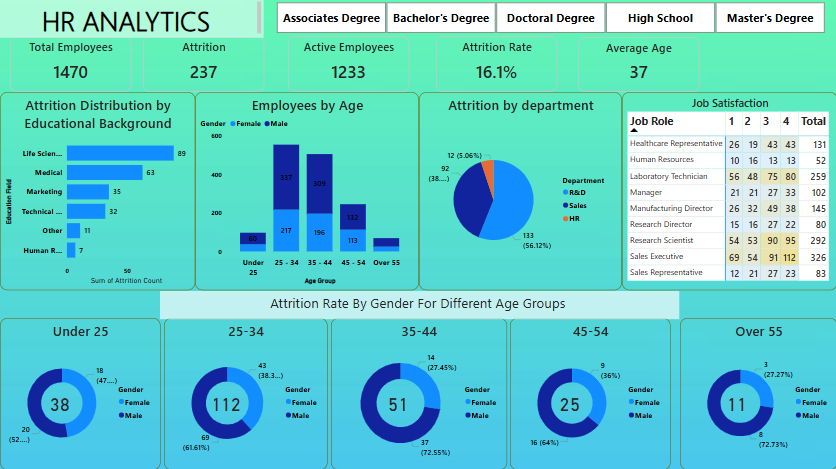

The page's visual inventory and layout, read from the dashboard file:
{"tool":"powerbi","page":{"name":"Page 1","canvas":[1664,940],"ordinal":0},"visuals":[{"type":"card","title":"Total Employees","fields":{"Values":["CountNonNull(HR data.Employee Count)"]},"box":[19.1,74.5,240.7,110.8],"z":0},{"type":"card","title":"Attrition","fields":{"Values":["Sum(HR data.Attrition Count )"]},"box":[284.6,74.5,240.7,110.8],"z":1000},{"type":"card","title":"Attrition Rate ","fields":{"Values":["HR data.Attrition_Rate"]},"box":[867.2,74.5,240.7,110.8],"z":2000},{"type":"card","title":"Active Employees","fields":{"Values":["HR data.Active_employees"]},"box":[573.1,74.5,240.7,110.8],"z":3000},{"type":"card","title":"Average Age ","fields":{"Values":["Avg(HR data.Age)"]},"box":[1148,76.4,240.7,108.9],"z":4000},{"type":"pieChart","title":"Attrition by department","fields":{"Y":["Sum(HR data.Attrition Count )"],"Category":["HR data.Department"]},"box":[832.8,185.3,403.1,393.5],"z":5000},{"type":"columnChart","title":"Employees by Age ","fields":{"Category":["HR data.CF_age band"],"Series":["HR data.Gender"],"Y":["Sum(HR data.Employee Count)"]},"box":[387.8,185.3,445.1,393.5],"z":6000},{"type":"pivotTable","title":"Job Satisfaction","fields":{"Columns":["HR data.Job Satisfaction"],"Rows":["HR data.Job Role"],"Values":["Sum(HR data.Employee Count)"]},"box":[1235.9,185.3,427.9,393.5],"z":7000},{"type":"clusteredBarChart","title":"Attrition Distribution by Educational Background","fields":{"Category":["HR data.Education Field"],"Y":["Sum(HR data.Attrition Count )"]},"box":[0,185.3,387.8,393.5],"z":8000},{"type":"donutChart","title":"45-54","fields":{"Category":["HR data.Gender"],"Y":["Sum(HR data.Attrition Count )"],"Series":["HR data.CF_age band"]},"box":[1014.3,634.2,319,301.8],"z":9000},{"type":"donutChart","title":"25-34","fields":{"Category":["HR data.Gender"],"Y":["Sum(HR data.Attrition Count )"],"Series":["HR data.CF_age band"]},"box":[326.6,634.2,324.7,301.8],"z":10000},{"type":"donutChart","title":"35-44","fields":{"Category":["HR data.Gender"],"Y":["Sum(HR data.Attrition Count )"],"Series":["HR data.CF_age band"]},"box":[657.1,634.2,349.6,301.8],"z":11000},{"type":"donutChart","title":"Under 25","fields":{"Category":["HR data.Gender"],"Y":["Sum(HR data.Attrition Count )"],"Series":["HR data.CF_age band"]},"box":[0,634.2,319,301.8],"z":12000},{"type":"donutChart","title":"Over 55","fields":{"Category":["HR data.Gender"],"Y":["Sum(HR data.Attrition Count )"],"Series":["HR data.CF_age band"]},"box":[1350.5,634.2,313.3,301.8],"z":13000},{"type":"textbox","box":[0,0,523.7,76.7],"z":13001},{"type":"textbox","box":[318.4,579.3,1032.1,55.6],"z":13002},{"type":"card","fields":{"Values":["Sum(HR data.Attrition Count )"]},"box":[43.7,764.3,150.7,74.2],"z":13003},{"type":"card","fields":{"Values":["Sum(HR data.Attrition Count )"]},"box":[373.4,764.3,150.7,74.2],"z":13004},{"type":"card","fields":{"Values":["Sum(HR data.Attrition Count )"]},"box":[716.3,764.3,150.7,74.2],"z":13005},{"type":"card","fields":{"Values":["Sum(HR data.Attrition Count )"]},"box":[1056.9,764.3,150.7,74.2],"z":13006},{"type":"card","fields":{"Values":["Sum(HR data.Attrition Count )"]},"box":[1388.9,764.3,150.7,74.2],"z":13007},{"type":"slicer","fields":{"Values":["HR data.Education"]},"box":[524.1,0,1137.7,74.2],"z":13008}]}

Visuals, with their boxes in screenshot pixels (x1, y1, x2, y2), scaled from the page's 1664x940 canvas onto the 836x469 screenshot:
"Total Employees" card: pyautogui.locateOnScreen(10, 37, 131, 92)
"Attrition" card: pyautogui.locateOnScreen(143, 37, 264, 92)
"Attrition Rate " card: pyautogui.locateOnScreen(436, 37, 557, 92)
"Active Employees" card: pyautogui.locateOnScreen(288, 37, 409, 92)
"Average Age " card: pyautogui.locateOnScreen(577, 38, 698, 92)
"Attrition by department" pieChart: pyautogui.locateOnScreen(418, 92, 621, 289)
"Employees by Age " columnChart: pyautogui.locateOnScreen(195, 92, 418, 289)
"Job Satisfaction" pivotTable: pyautogui.locateOnScreen(621, 92, 835, 289)
"Attrition Distribution by Educational Background" clusteredBarChart: pyautogui.locateOnScreen(0, 92, 195, 289)
"45-54" donutChart: pyautogui.locateOnScreen(510, 316, 670, 467)
"25-34" donutChart: pyautogui.locateOnScreen(164, 316, 327, 467)
"35-44" donutChart: pyautogui.locateOnScreen(330, 316, 506, 467)
"Under 25" donutChart: pyautogui.locateOnScreen(0, 316, 160, 467)
"Over 55" donutChart: pyautogui.locateOnScreen(678, 316, 835, 467)
textbox: pyautogui.locateOnScreen(0, 0, 263, 38)
textbox: pyautogui.locateOnScreen(160, 289, 678, 317)
card - Sum(HR data.Attrition Count ): pyautogui.locateOnScreen(22, 381, 98, 418)
card - Sum(HR data.Attrition Count ): pyautogui.locateOnScreen(188, 381, 263, 418)
card - Sum(HR data.Attrition Count ): pyautogui.locateOnScreen(360, 381, 436, 418)
card - Sum(HR data.Attrition Count ): pyautogui.locateOnScreen(531, 381, 607, 418)
card - Sum(HR data.Attrition Count ): pyautogui.locateOnScreen(698, 381, 774, 418)
slicer - HR data.Education: pyautogui.locateOnScreen(263, 0, 835, 37)
